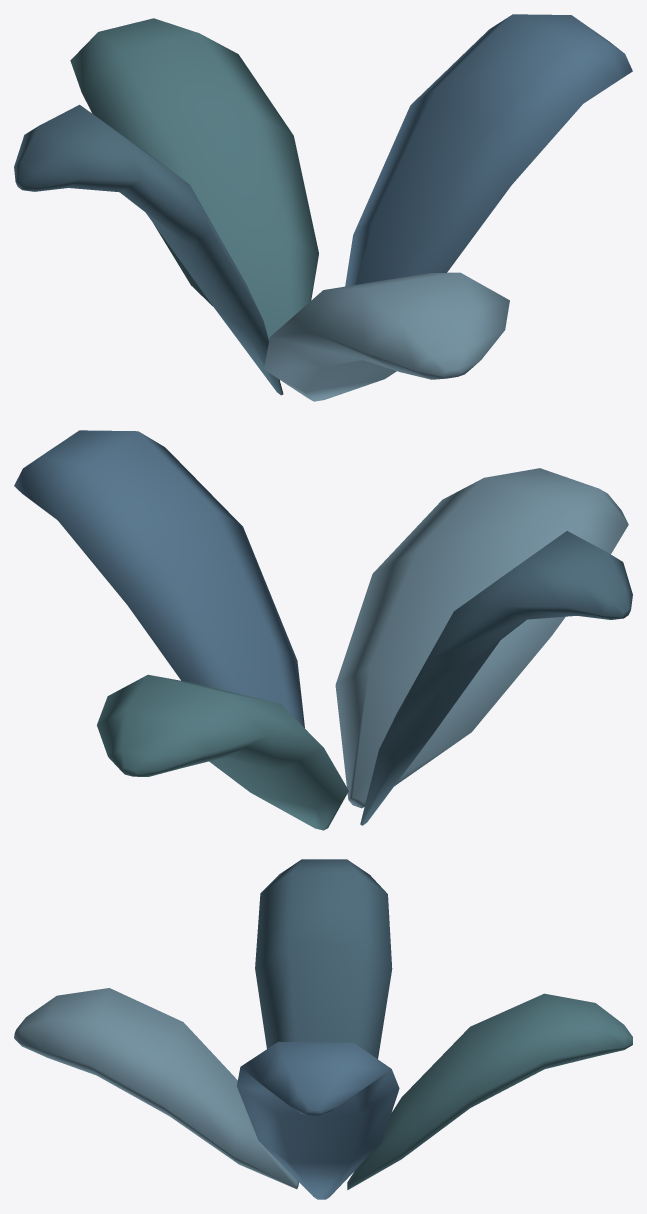
Rendered from small_grass_01.glb.
3 views of the same model, one above another, from view 1: azimuth 30°, elevation 25°; view 2: azimuth 150°, elevation 25°; view 3: azimuth 270°, elevation 25° (orthographic). The views are drawn at different scales.
Visible parts, largest first — view 1: small_grass_01; view 2: small_grass_01; view 3: small_grass_01.
Boxes of the visible parts, x1,y1,x2,y2 form: small_grass_01: [14, 14, 632, 401]; small_grass_01: [14, 430, 632, 830]; small_grass_01: [14, 859, 632, 1199].
Bounding box in the file's own units: 0.5264 × 0.2665 × 0.621.
